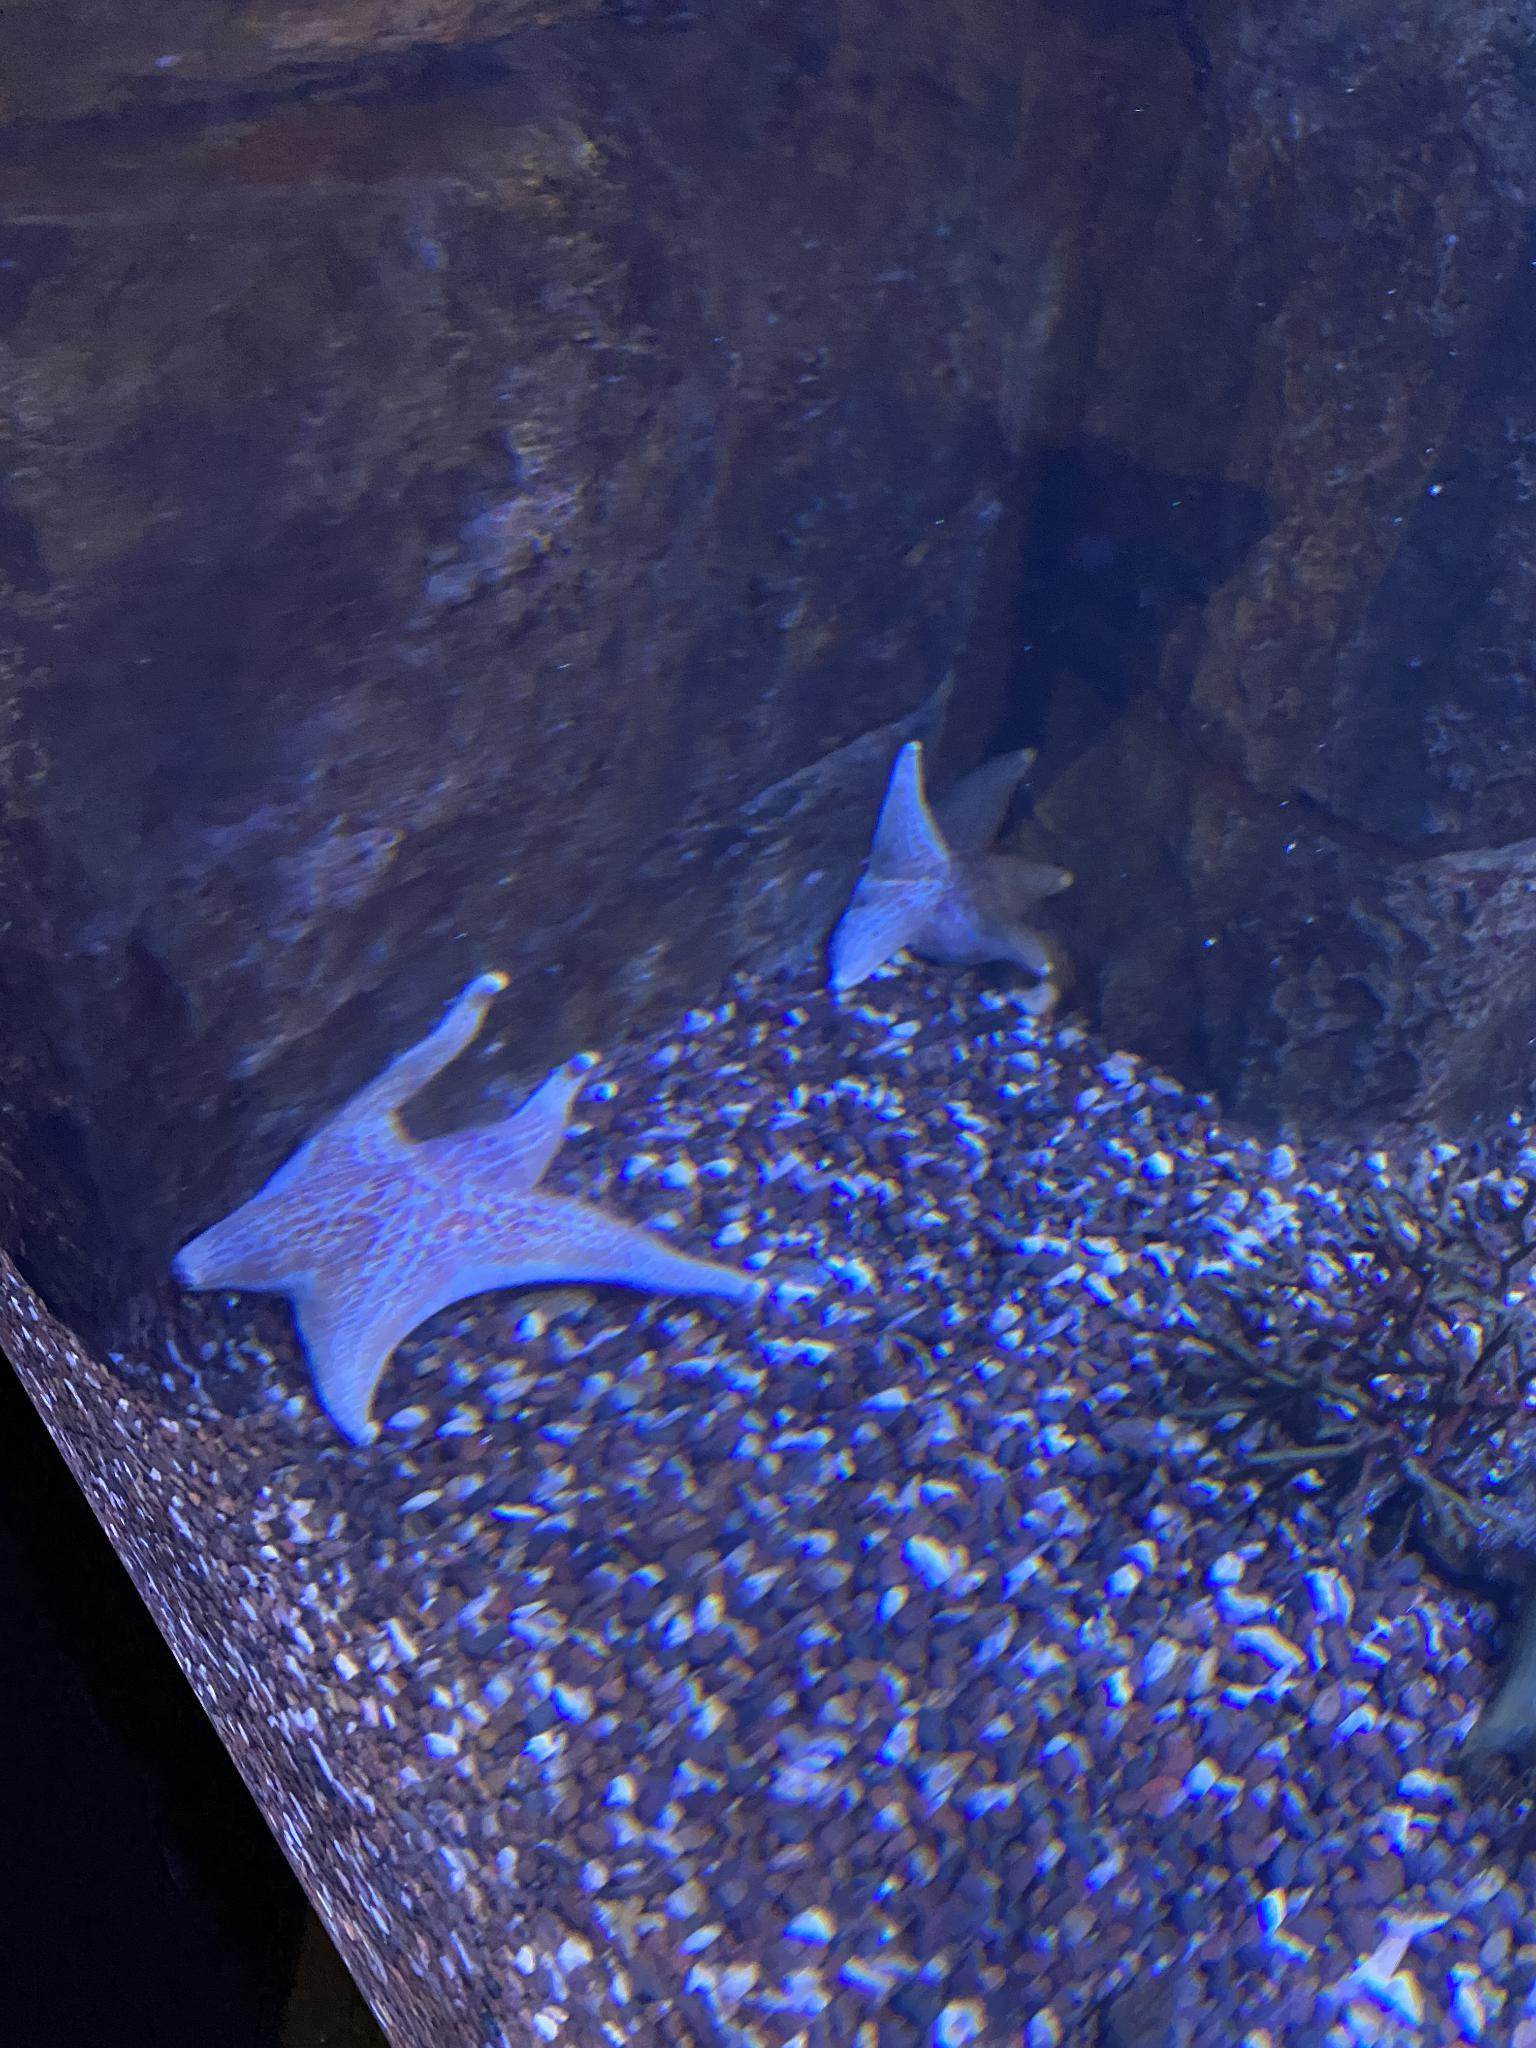starfish: (177, 972, 770, 1442), (829, 740, 1075, 987)
